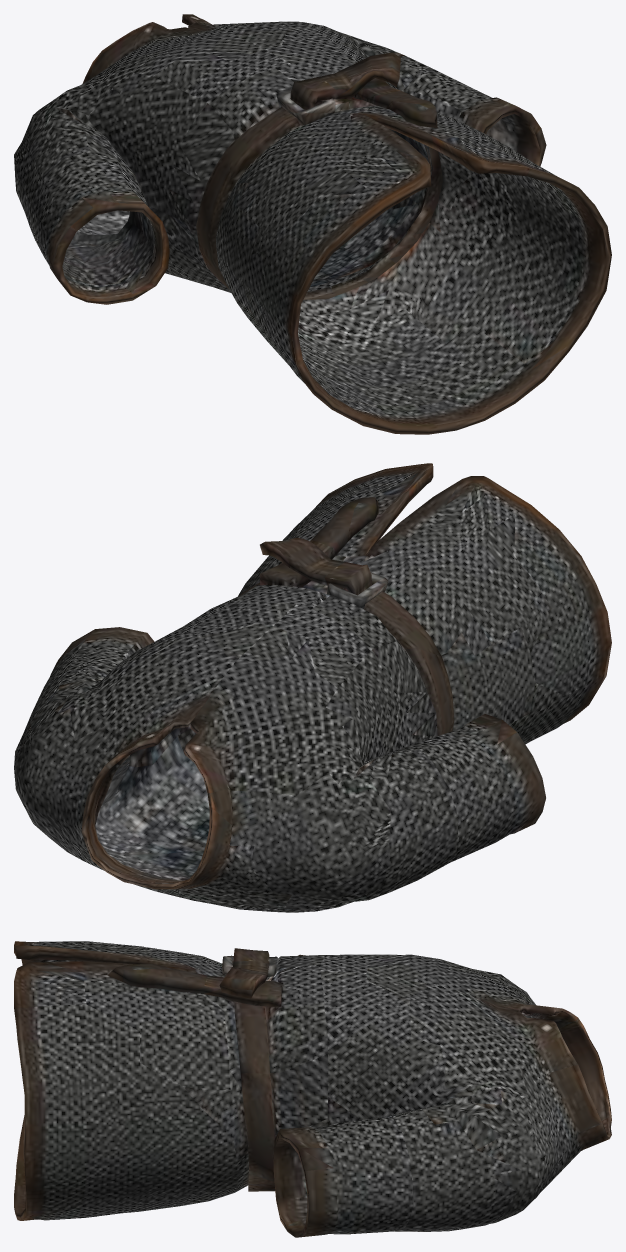
File: chain_mail.glb
The picture shows the model from 3 angles, top to bottom: view 1: azimuth 30°, elevation 25°; view 2: azimuth 150°, elevation 25°; view 3: azimuth 270°, elevation 25°; orthographic projection. The views are drawn at different scales.
Visible parts, largest first — view 1: chain_mail; view 2: chain_mail; view 3: chain_mail.
Part boxes in pixels (left/top/right/bottom): chain_mail: left=14, top=14, right=611, bottom=434; chain_mail: left=14, top=463, right=611, bottom=912; chain_mail: left=14, top=941, right=611, bottom=1237.
Bounding box in the file's own units: 0.5344 × 0.2777 × 0.6.
1 material, 1 textured.
